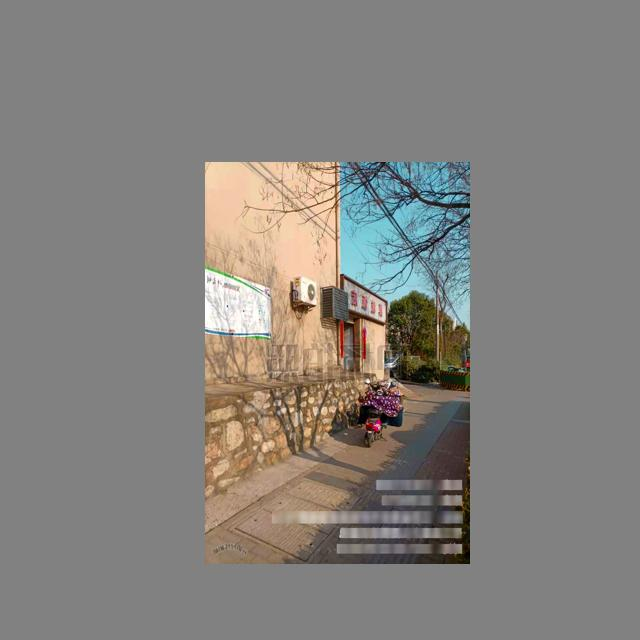good: (227, 479, 363, 562)
